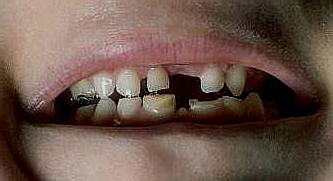Hypodontia: (164, 69, 204, 88)
